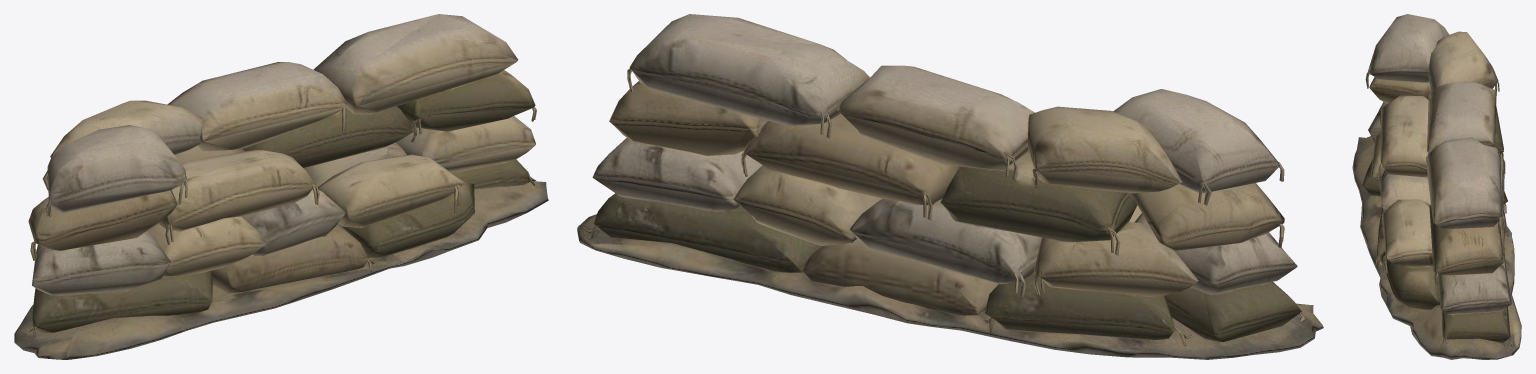
File: sandbags.glb
3 renders of one model, left to right at view 1: azimuth 30°, elevation 25°; view 2: azimuth 150°, elevation 25°; view 3: azimuth 270°, elevation 25°, orthographic. The views are drawn at different scales.
Visible parts, largest first — view 1: sandbags; view 2: sandbags; view 3: sandbags.
Boxes of the visible parts, <box> form: sandbags: <box>14,14,548,359</box>; sandbags: <box>577,14,1323,359</box>; sandbags: <box>1352,14,1521,359</box>.
Bounding box in the file's own units: 1.23 × 0.3882 × 0.3885.
1 material, 1 textured.
